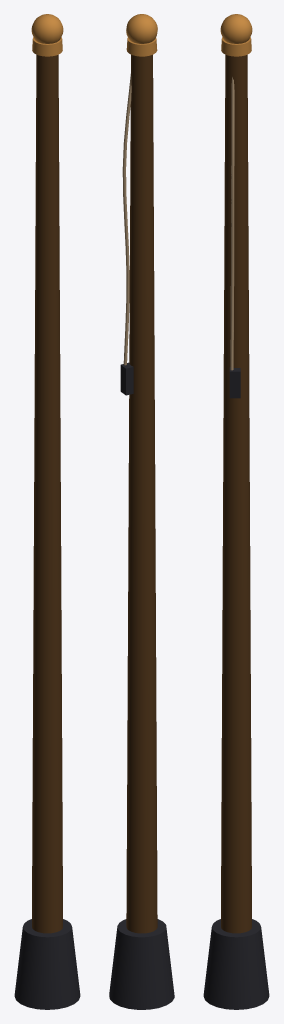
File: mia-flagpole.glb
3 views of the same model, side by side, from view 1: azimuth 90°, elevation 25°; view 2: azimuth 210°, elevation 25°; view 3: azimuth 270°, elevation 25° (orthographic).
Visible parts, largest first — view 1: Body_wood, Body_iron, Body_brass; view 2: Body_wood, Body_iron, Body_brass, Body_page-beige; view 3: Body_wood, Body_iron, Body_brass, Body_page-beige.
Boxes of the visible parts, <box> form: Body_wood: <box>32,54,62,933</box>; Body_iron: <box>14,919,80,1009</box>; Body_brass: <box>31,14,63,56</box>; Body_wood: <box>126,54,157,933</box>; Body_iron: <box>109,362,174,1009</box>; Body_brass: <box>126,14,157,56</box>; Body_page-beige: <box>122,74,131,365</box>; Body_wood: <box>221,54,251,933</box>; Body_iron: <box>203,367,269,1009</box>; Body_brass: <box>220,14,252,56</box>; Body_page-beige: <box>230,77,234,370</box>.
Size of the model in its own units: 0.198 by 3.25 by 0.198.
